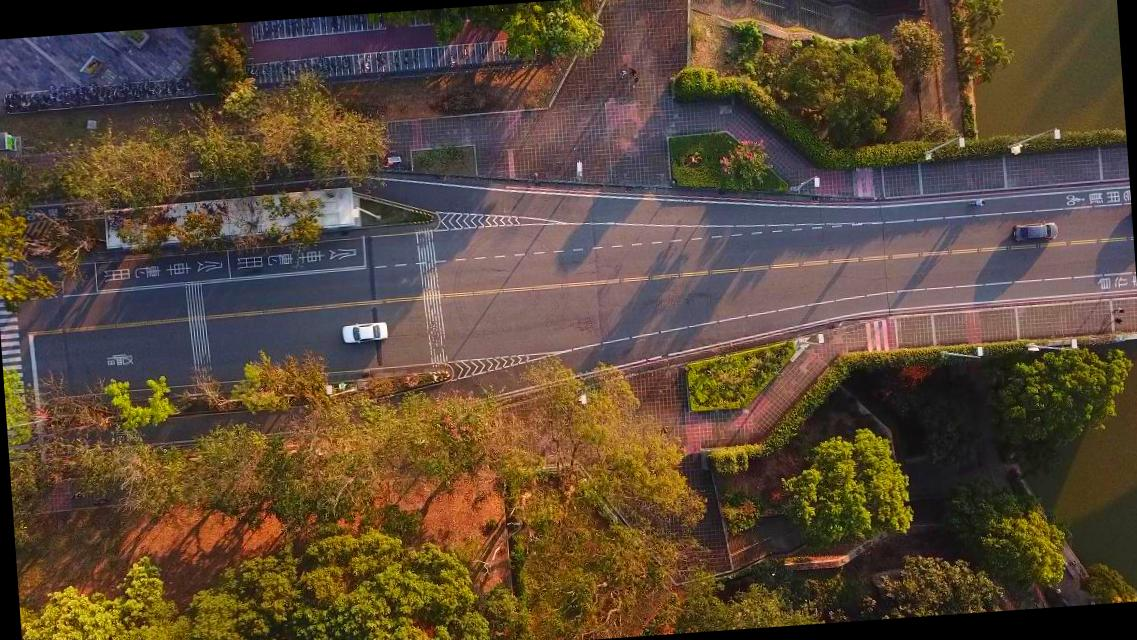vehicle: (340, 320, 389, 345), (1010, 222, 1058, 242)
